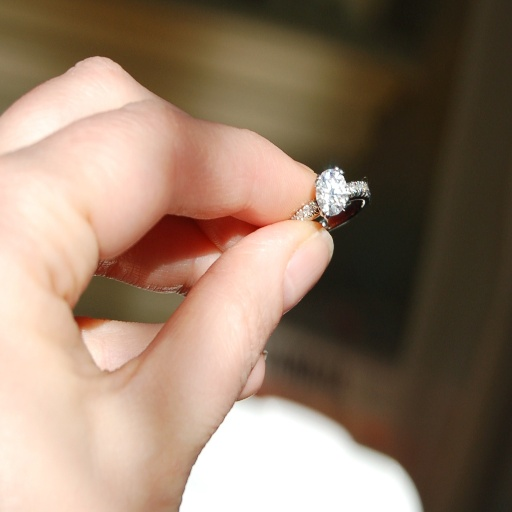hand: (3, 55, 333, 466)
